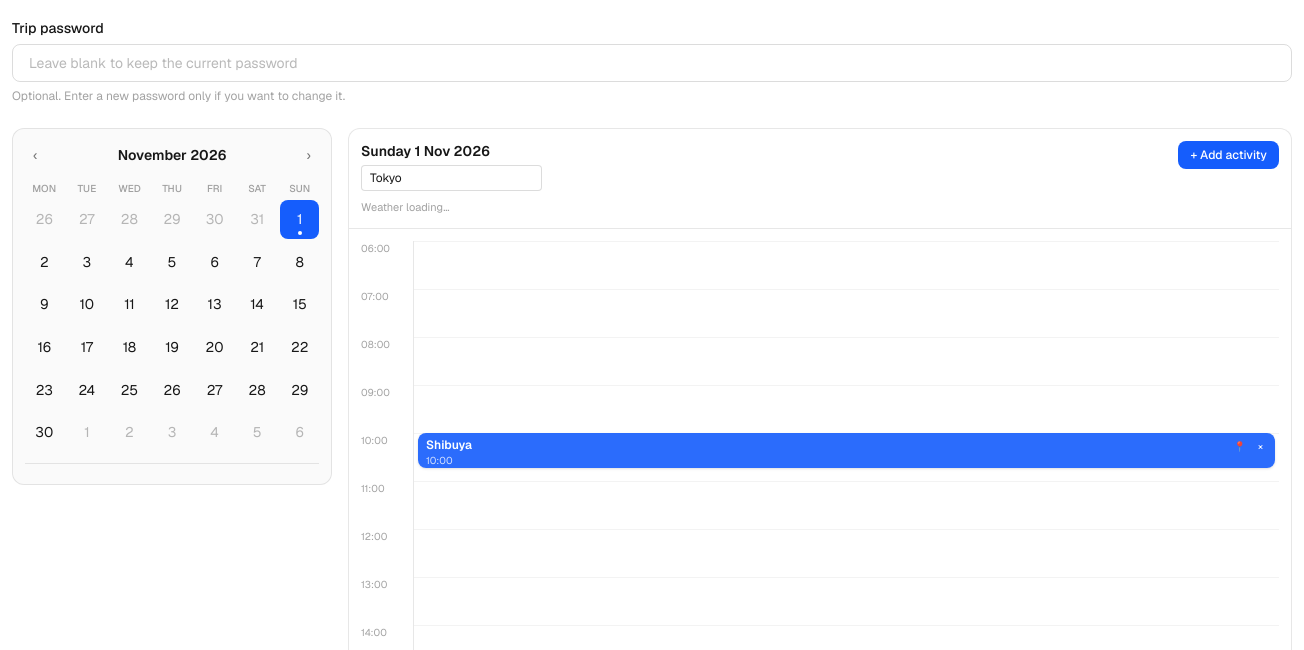
Test: TripEditor › creates a day when selecting an empty calendar date
The width and height of the screenshot is (1304, 650).
Click the cell named "2026-11-02": click(44, 262) [25,243,64,281]
(page scrolled)
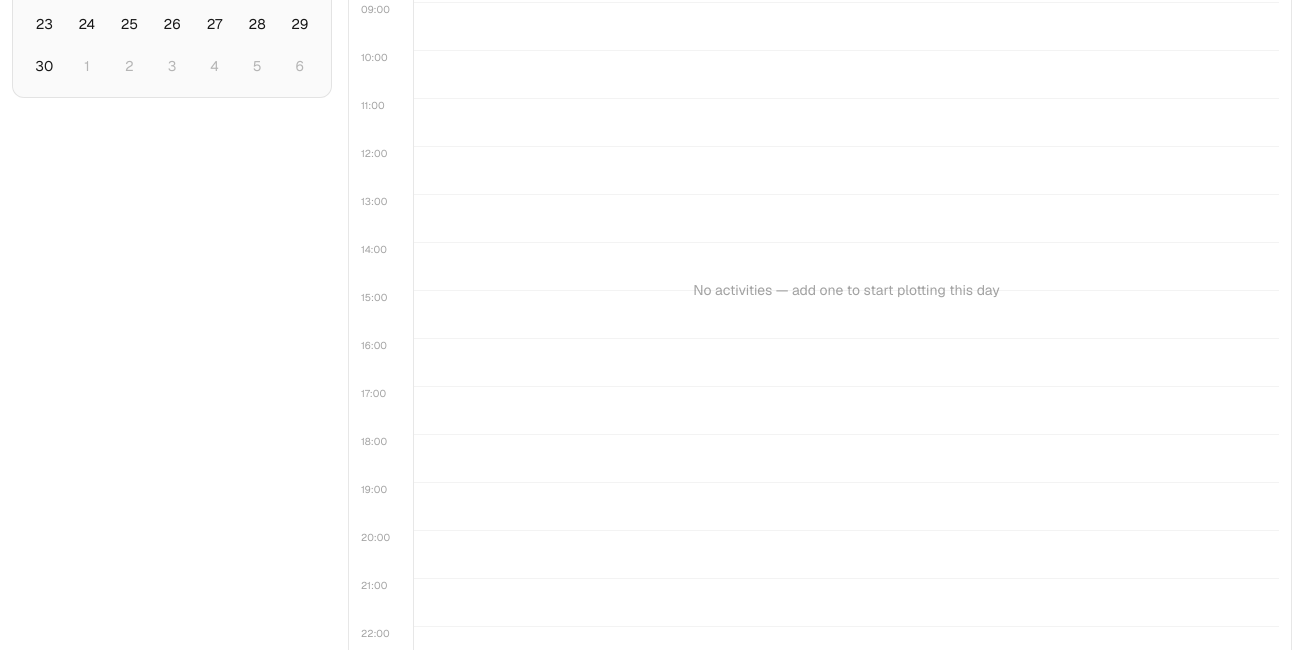
Expected: the text "No activities — add one to start plotting this day" is shown, [693,281,1000,299]
